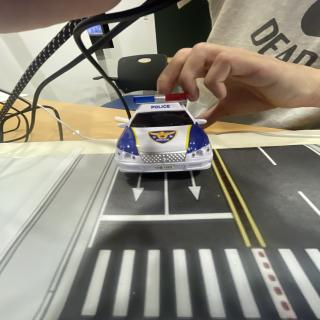Police_car: (115, 93, 213, 172)
